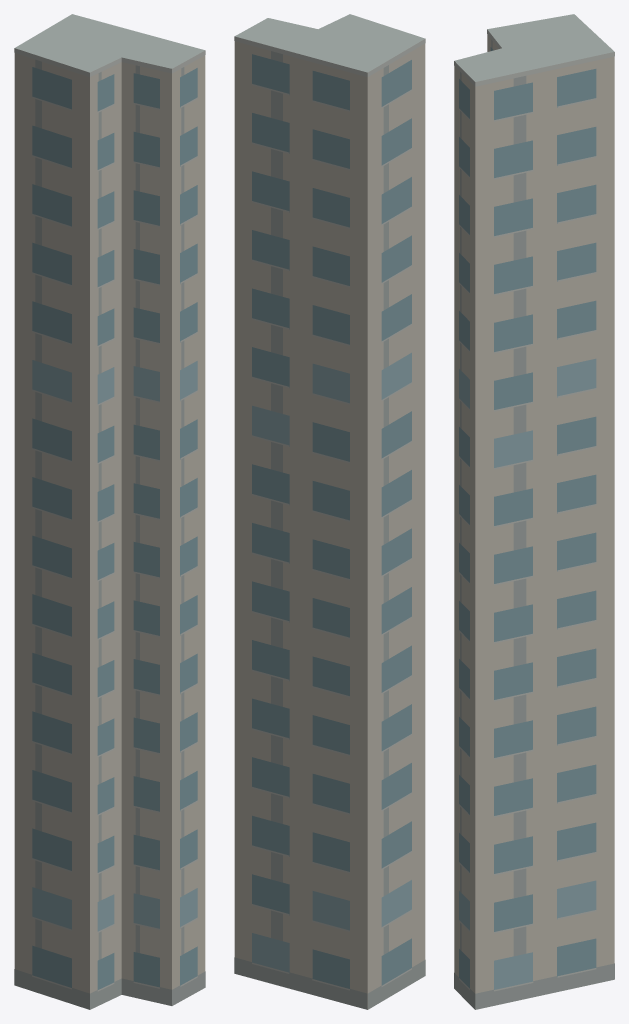
File: survey-upis-32925747.glb
3 views of the same model, side by side, from view 1: azimuth 30°, elevation 25°; view 2: azimuth 210°, elevation 25°; view 3: azimuth 270°, elevation 25° (orthographic).
Visible parts, largest first — view 1: survey-upis-32925747.tmp; view 2: survey-upis-32925747.tmp; view 3: survey-upis-32925747.tmp.
Boxes of the visible parts, x1,y1,x2,y2 form: survey-upis-32925747.tmp: (14, 14, 205, 1009); survey-upis-32925747.tmp: (234, 14, 425, 1009); survey-upis-32925747.tmp: (454, 14, 614, 1009).
Size of the model in its own units: 7.69 by 48.8 by 7.67.
